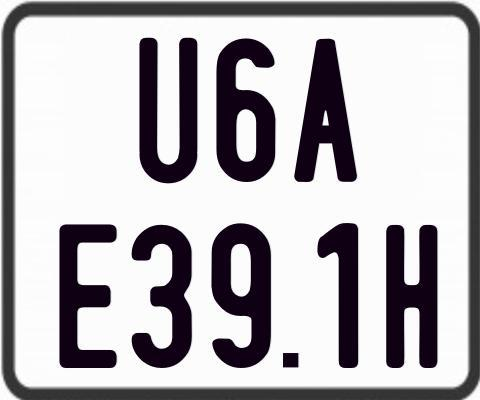1: (314, 222, 357, 369)
3: (130, 223, 193, 372)
6: (213, 36, 272, 183)
9: (210, 220, 273, 371)
A: (291, 37, 360, 181)
E: (56, 224, 118, 368)
H: (384, 223, 440, 372)
U: (138, 35, 200, 183)
